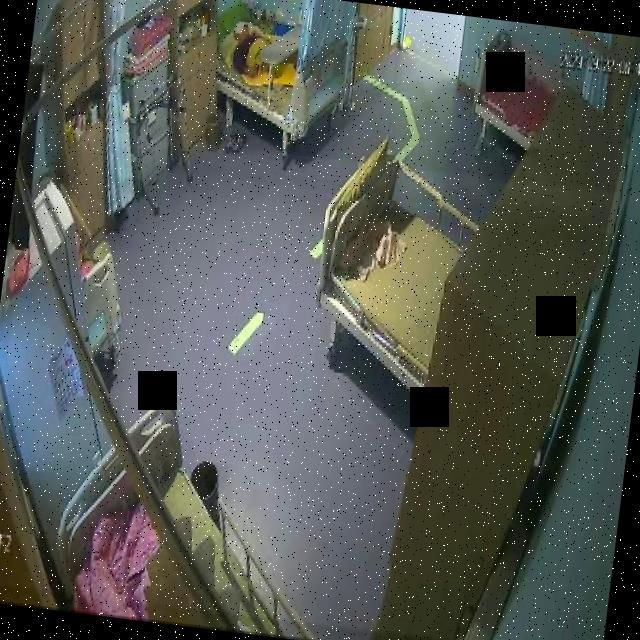bed: (47, 390, 315, 638), (307, 150, 478, 393), (212, 6, 355, 140), (467, 26, 562, 152)
lie: (226, 17, 304, 84)
patient: (227, 17, 274, 81)
walker: (117, 72, 206, 221)
